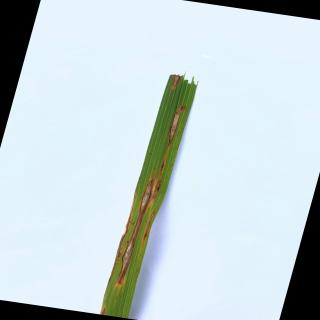Blast: (114, 176, 154, 286), (167, 104, 186, 147), (159, 152, 168, 175), (152, 179, 162, 199), (171, 76, 180, 90)
